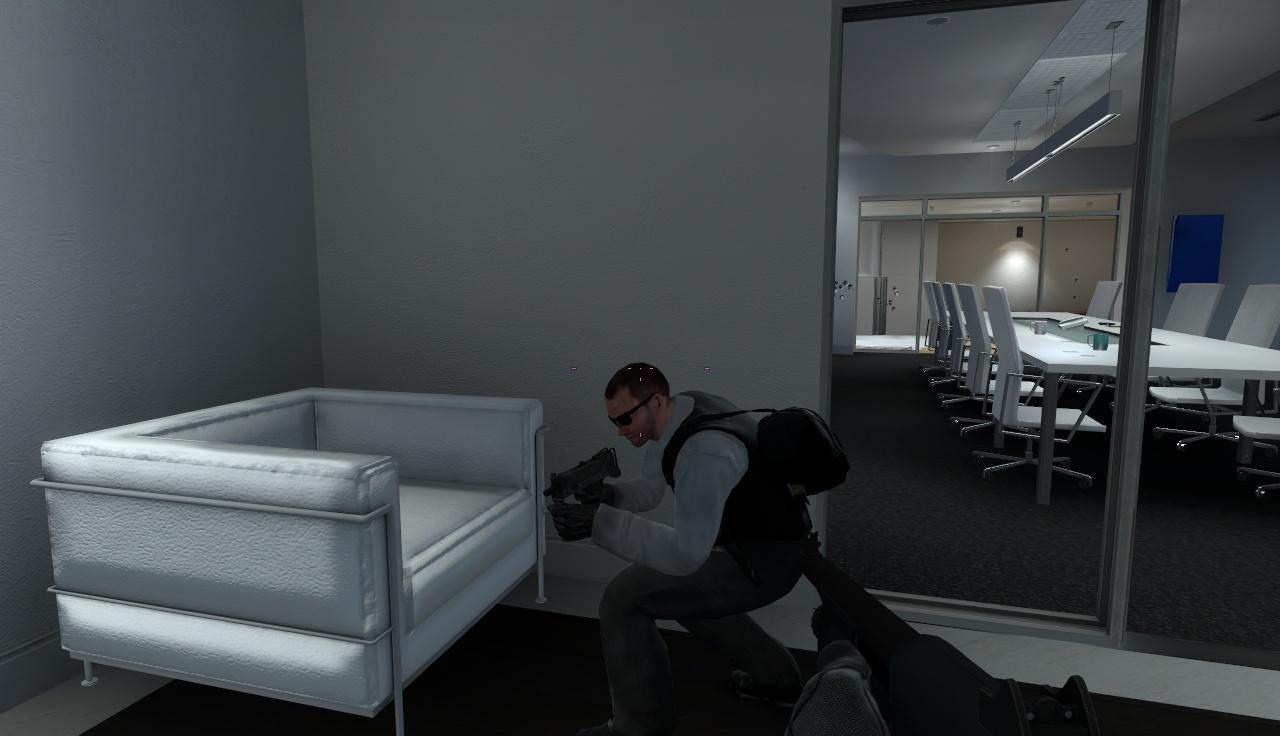shotgun: (792, 528, 1106, 736)
tt: (565, 362, 808, 736)
tthead: (603, 360, 672, 448)
